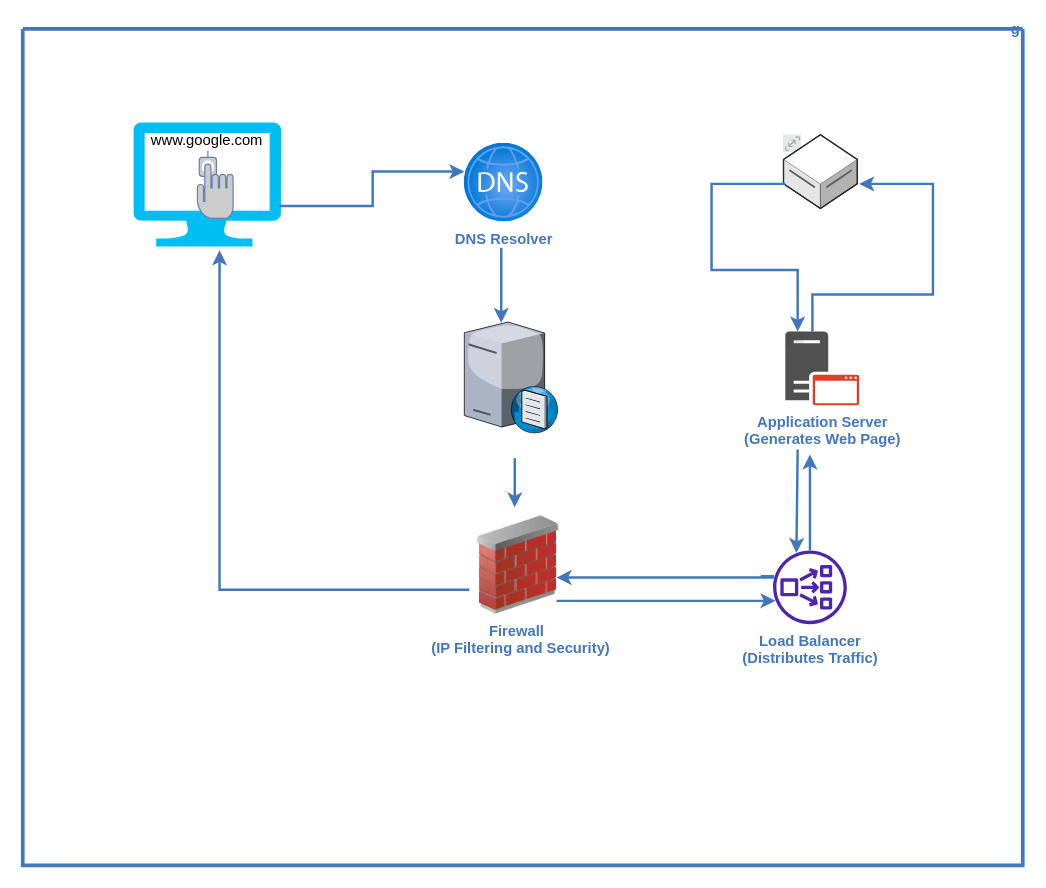
The diagram is 1046 pixels wide and 888 high, and some of its shapes have lost their labels. The shapes that lost their labels are listed below. From the top down, each one's centre as x and y in pixels, then its label:
At pixel 819 170: "Database Server (Stores and Retrieves Data)".
At pixel 511 375: "DNS Server".
